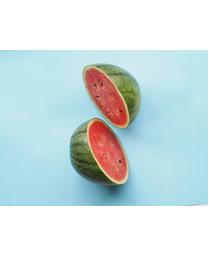watermelon: (68, 118, 132, 188), (81, 64, 144, 132)
